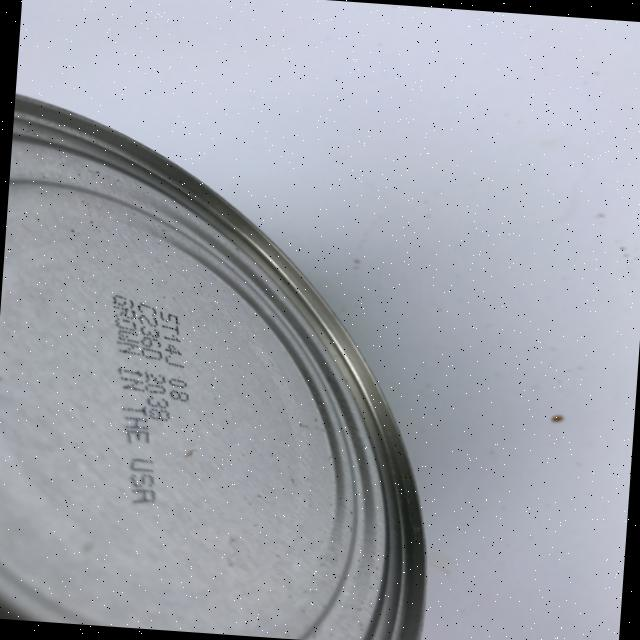metal: (0, 91, 460, 640)
